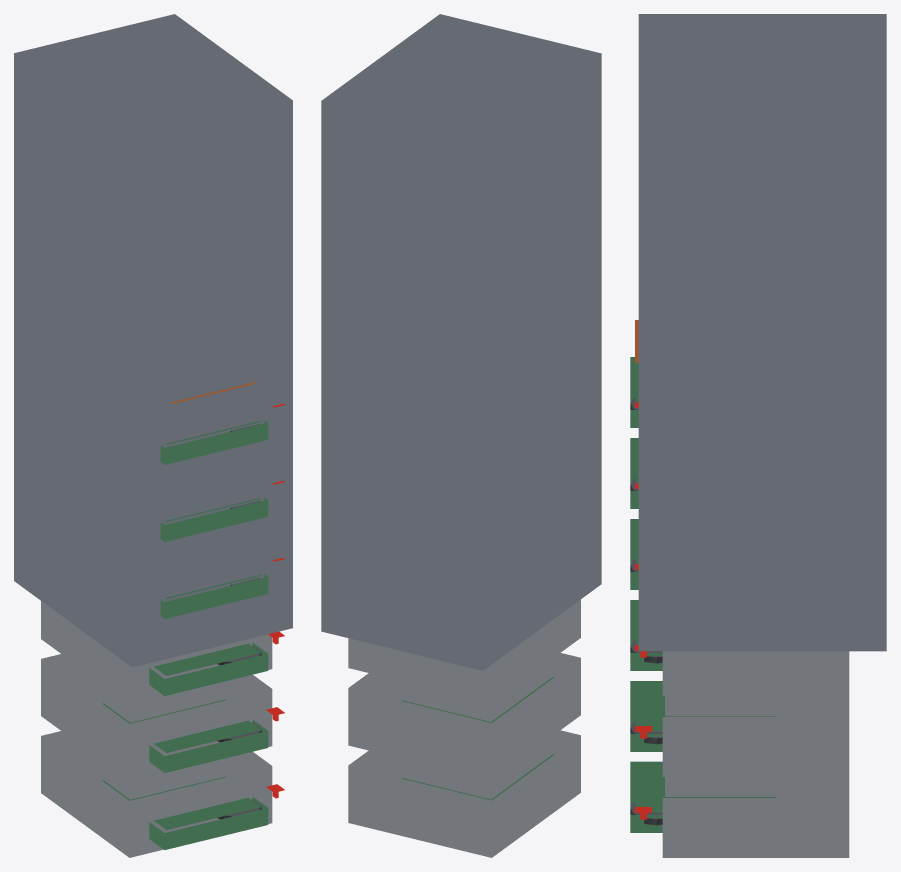
File: garage-voodude-rack.obj
The picture shows the model from 3 angles, left to right: view 1: azimuth 30°, elevation 25°; view 2: azimuth 150°, elevation 25°; view 3: azimuth 270°, elevation 25°; orthographic projection. The views are drawn at different scales.
Visible parts, largest first — view 1: garage-voodude-rack; view 2: garage-voodude-rack; view 3: garage-voodude-rack.
Part boxes in pixels (x1,y1,x2,y2): garage-voodude-rack: [14, 14, 292, 857]; garage-voodude-rack: [321, 14, 601, 857]; garage-voodude-rack: [630, 14, 886, 857].
Size of the model in its own units: 0.59 by 2.56 by 0.775.
